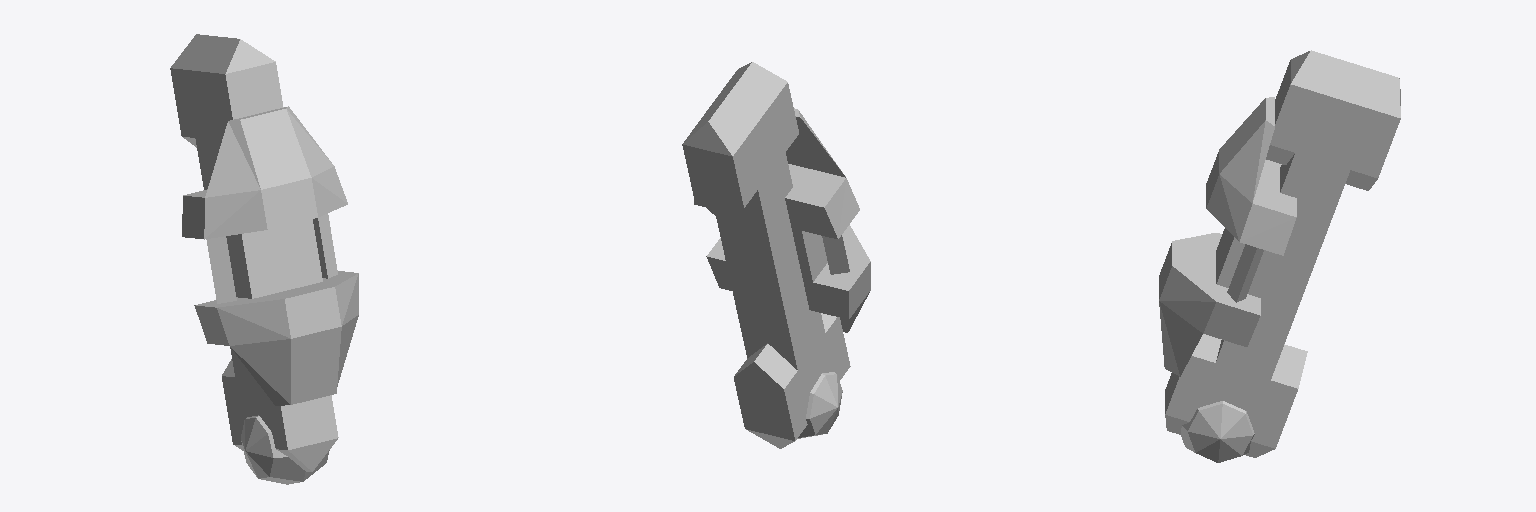
File: piraka leg uu2.obj
3 views of the same model, side by side, from view 1: azimuth 30°, elevation 25°; view 2: azimuth 150°, elevation 25°; view 3: azimuth 270°, elevation 25° (orthographic).
Visible parts, largest first — view 1: Reidak.reidak.smd.mesh_1.008; view 2: Reidak.reidak.smd.mesh_1.008; view 3: Reidak.reidak.smd.mesh_1.008.
Boxes of the visible parts, x1=… form: Reidak.reidak.smd.mesh_1.008: x1=170, y1=34, x2=358, y2=484; Reidak.reidak.smd.mesh_1.008: x1=682, y1=62, x2=870, y2=448; Reidak.reidak.smd.mesh_1.008: x1=1159, y1=50, x2=1400, y2=462.
Size of the model in its own units: 1.67 by 4.55 by 2.42.